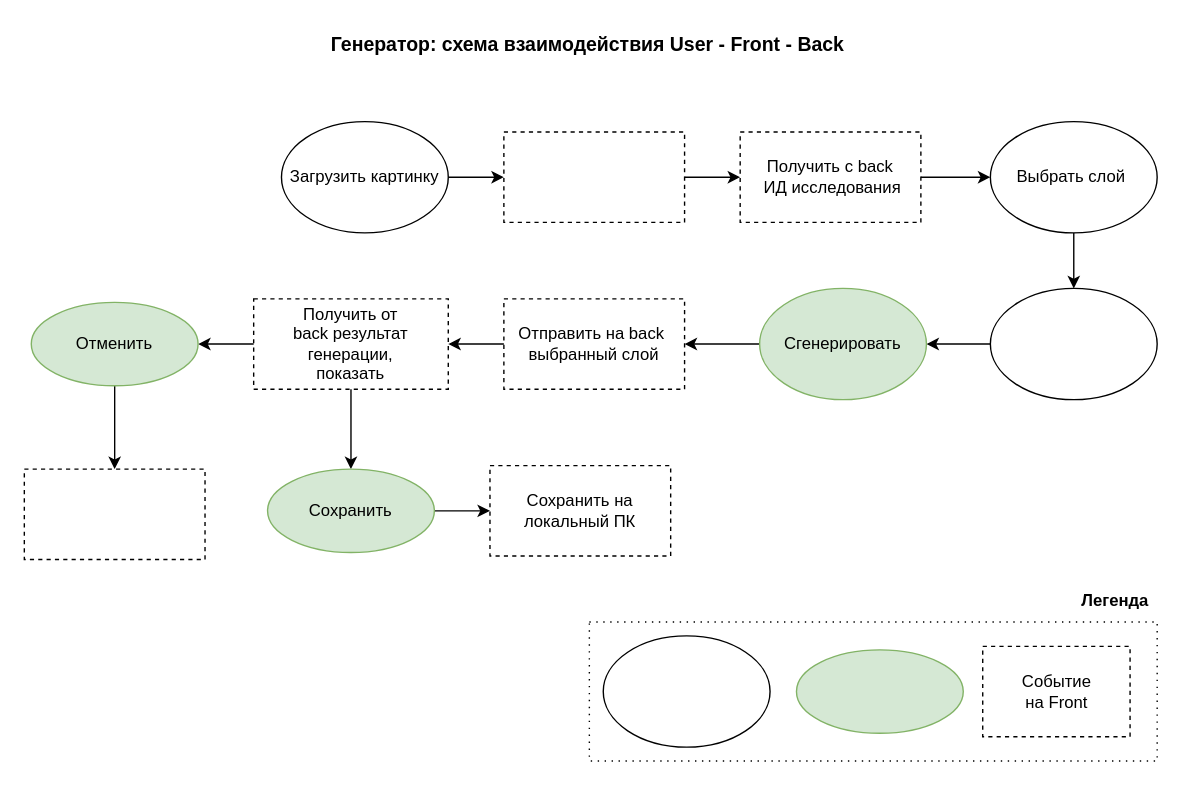
Image size: 1182x785. Some labels were removed from this diagram. The shapes that lost their labels are listed below. From the top down, each one's box as (x1, y1, x2, y2) in pixels, then its label:
(502, 131, 685, 222): Отправить на back для сохранения изображения
(989, 287, 1157, 400): Установить параметры
(23, 468, 205, 559): Очистить окно предпросмотра
(602, 635, 770, 747): Действие пользователя
(795, 648, 963, 733): Кнопка
